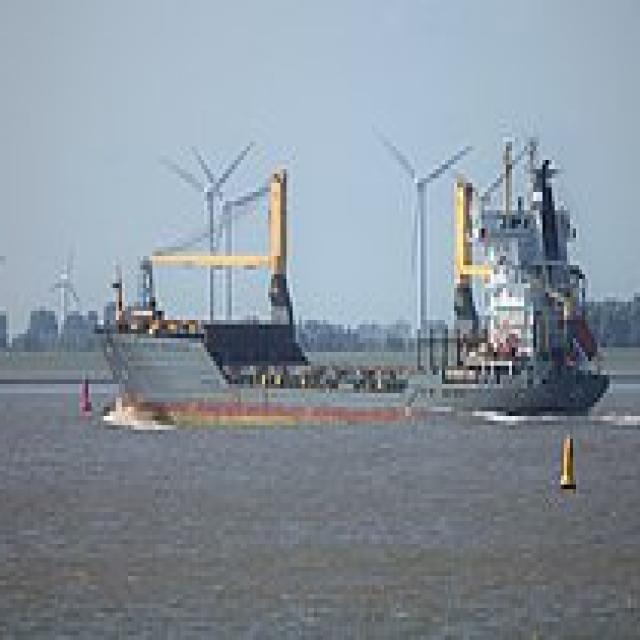Cargo: (94, 128, 618, 421)
